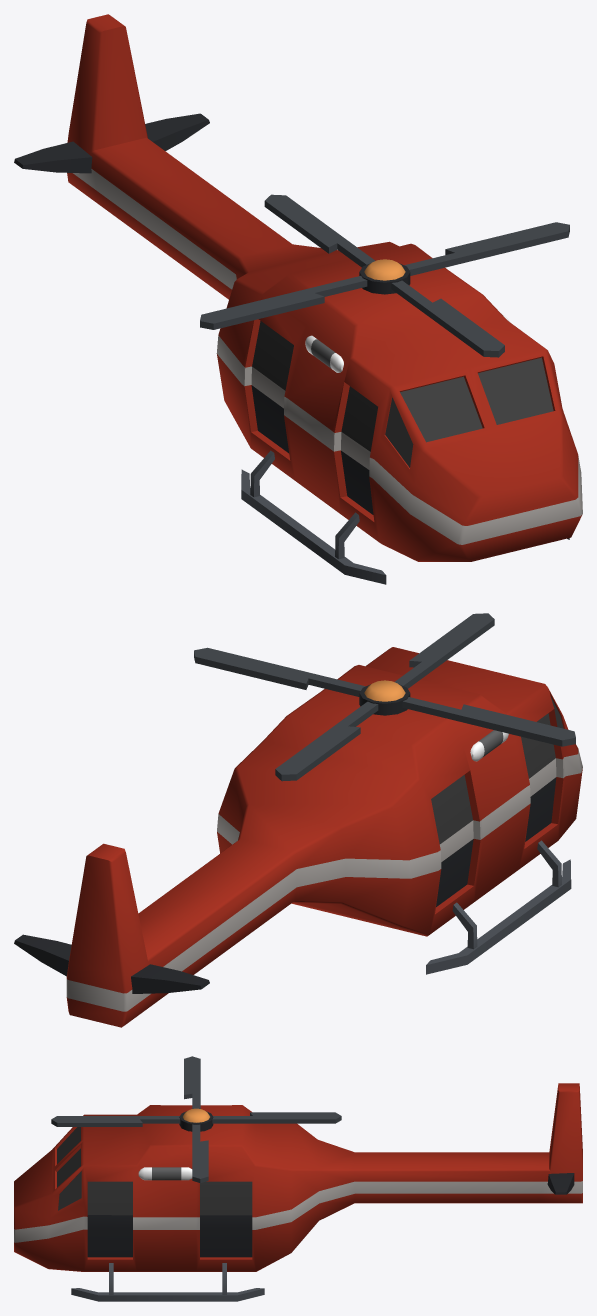
The model's file is Helicopter_2.fbx.
3 renders of one model, top to bottom at view 1: azimuth 30°, elevation 25°; view 2: azimuth 150°, elevation 25°; view 3: azimuth 270°, elevation 25°, orthographic. The views are drawn at different scales.
Parts seen in each view (by area): view 1: Helicopter_2; view 2: Helicopter_2; view 3: Helicopter_2.
Part boxes in pixels (x1,y1,x2,y2): Helicopter_2: (14, 14, 582, 584); Helicopter_2: (14, 613, 582, 1027); Helicopter_2: (14, 1056, 582, 1301).
Size of the model in its own units: 423 by 287 by 829.
